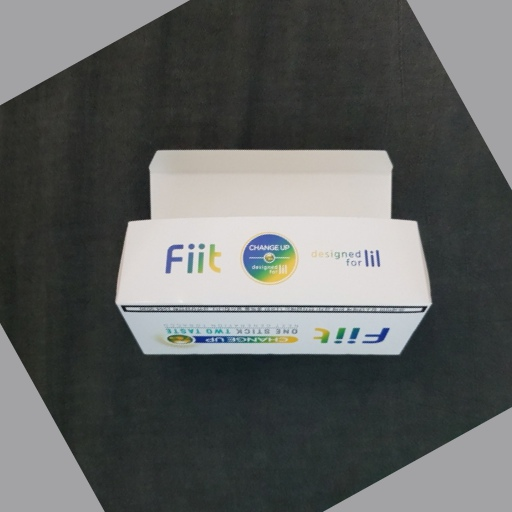Paper_0: (113, 144, 435, 367)
